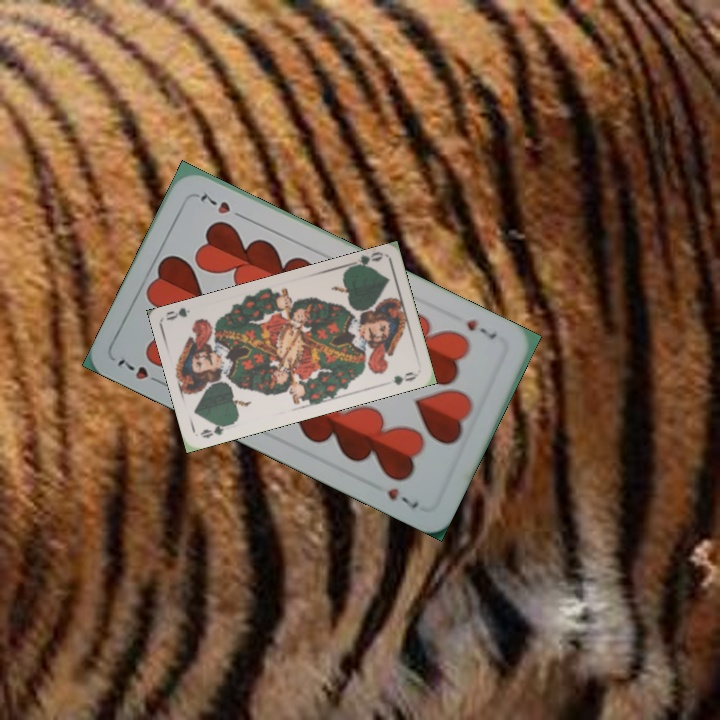GO: (345, 248, 385, 271), (196, 419, 236, 441)
H7: (113, 355, 167, 388), (462, 315, 500, 343)
